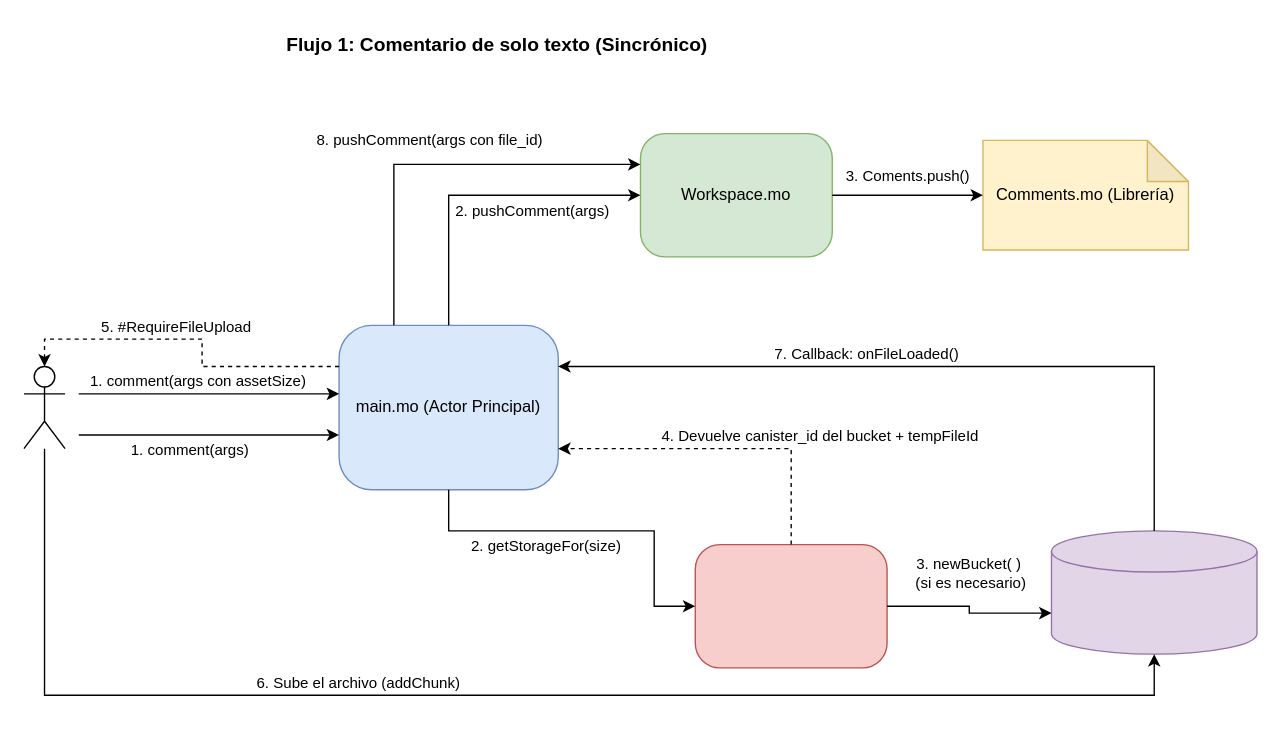
This 1281x730 diagram has some shape labels left out. Here are the shapes that lost their labels. From the top down, the centre of each, then its label:
(790,605): FileStorage.mo
(1153,592): Bucket.mo (Nuevo Canister)
